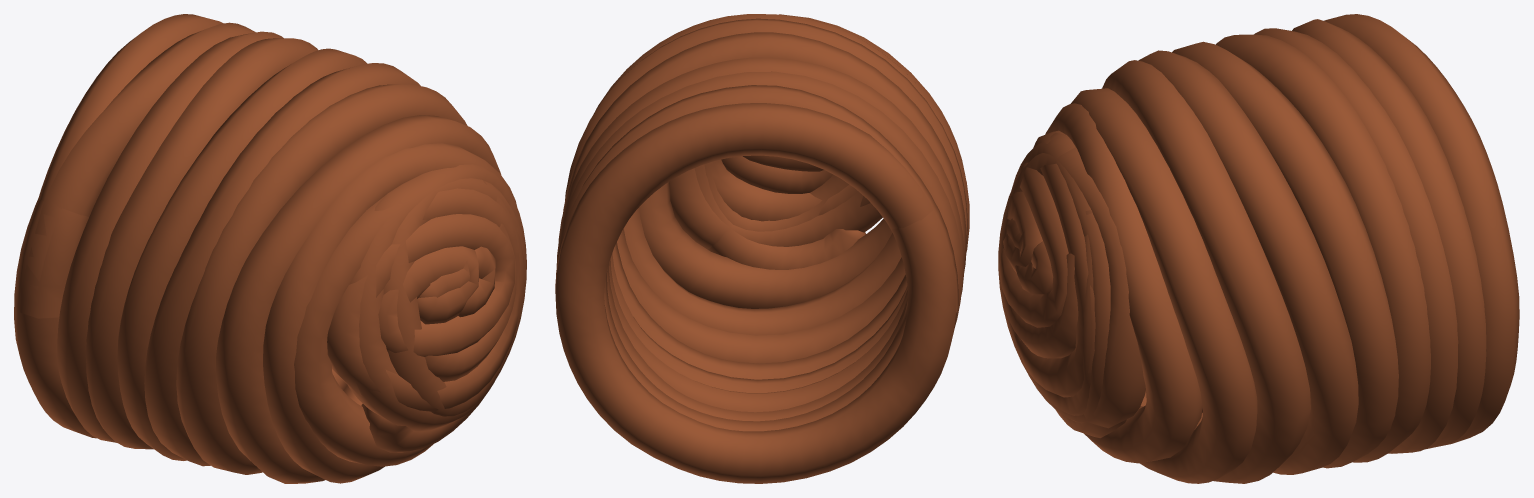
3 views of the same model, side by side, from view 1: azimuth 30°, elevation 25°; view 2: azimuth 150°, elevation 25°; view 3: azimuth 270°, elevation 25° (orthographic). The views are drawn at different scales.
Parts seen in each view (by area): view 1: brush_Icing_g0_b0; view 2: brush_Icing_g0_b0; view 3: brush_Icing_g0_b0.
Part boxes in pixels (x1,y1,x2,y2): brush_Icing_g0_b0: (14,14,526,483); brush_Icing_g0_b0: (555,14,969,483); brush_Icing_g0_b0: (998,14,1519,483).
Size of the model in its own units: 2.63 by 2.31 by 2.68.
